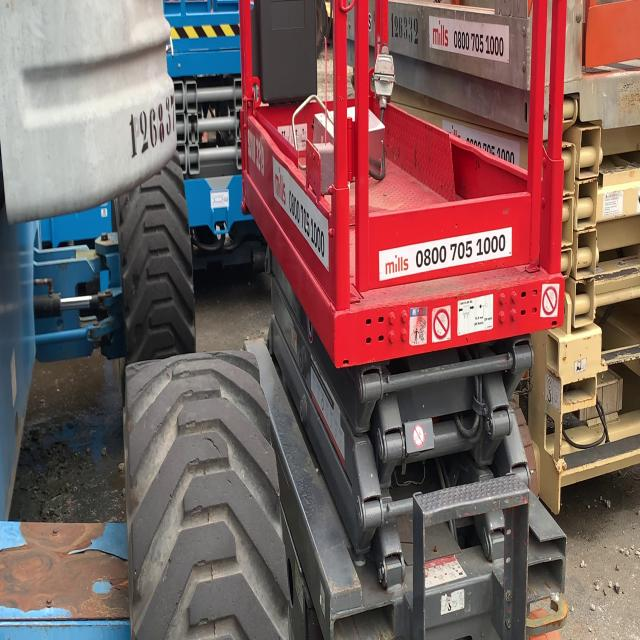Adesivo Longo: (378, 225, 513, 284), (272, 154, 330, 275), (429, 14, 510, 65)
